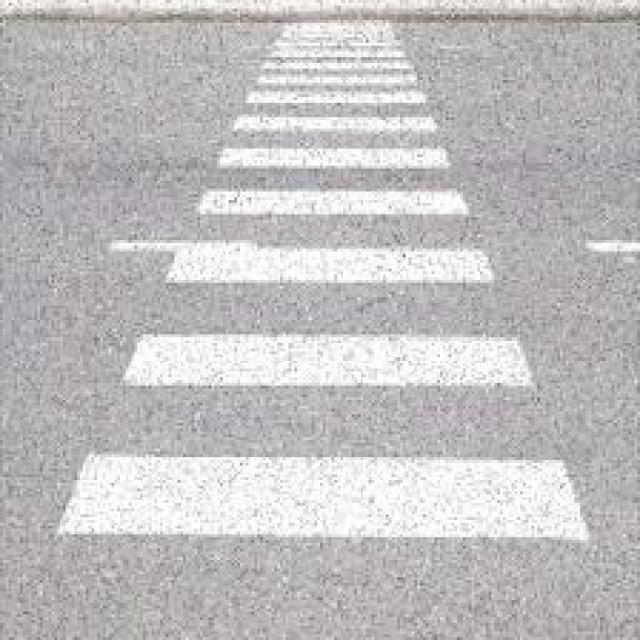crosswalk: (50, 6, 597, 551)
